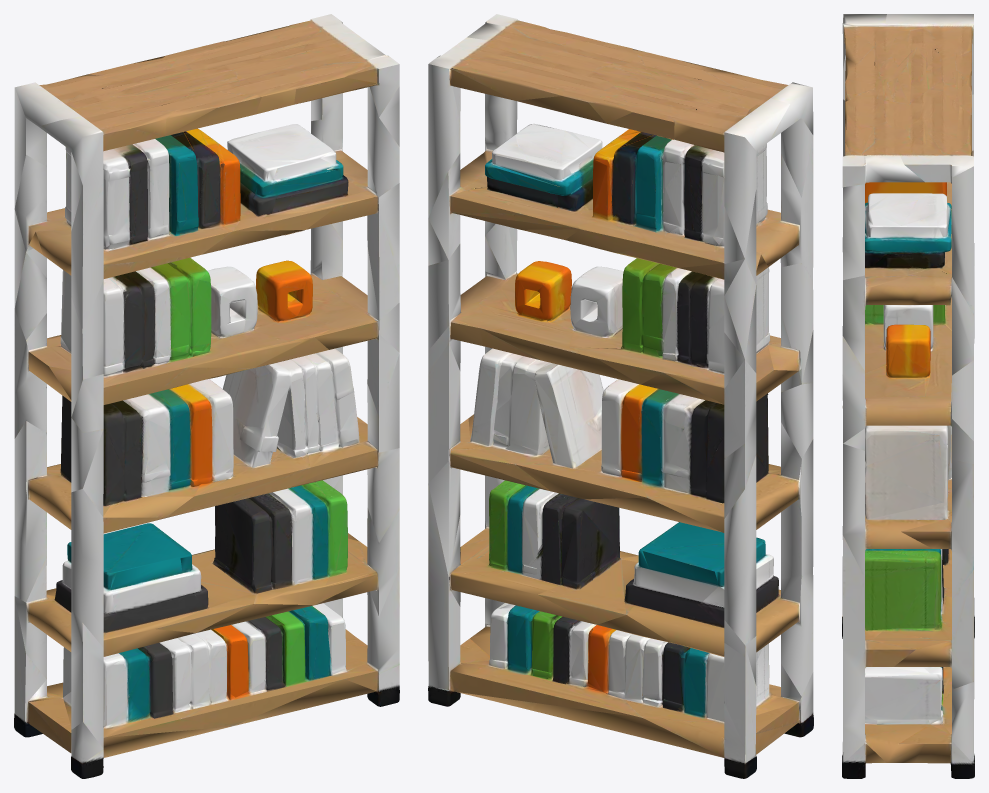
File: bookshelf.glb
3 views of the same model, side by side, from view 1: azimuth 30°, elevation 25°; view 2: azimuth 150°, elevation 25°; view 3: azimuth 270°, elevation 25° (orthographic). The views are drawn at different scales.
Bounding box in the file's own units: 1.04 × 2 × 0.3906.
1 material, 1 textured.
